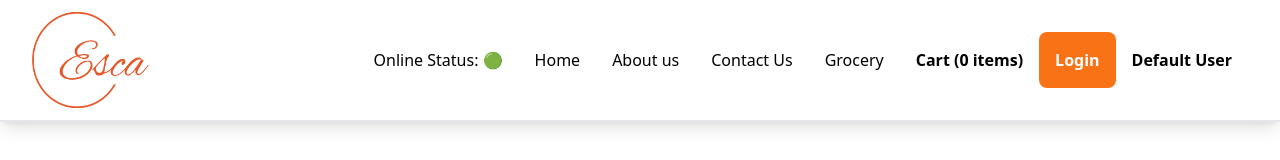
Test: Header Page Test Cases › Should change Login Button to Logout on Click
Click the button "Login" at (1077, 60), box [1039,32,1116,88]
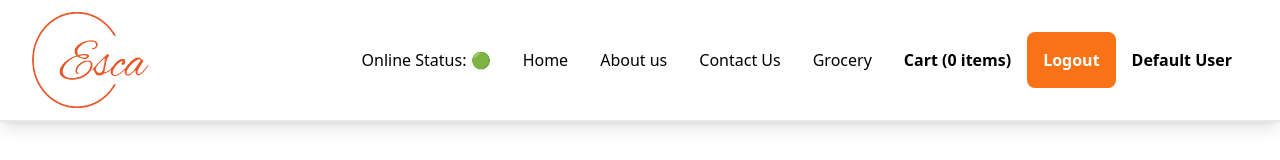
Now the button "Logout" is shown, box [1027,32,1116,88]
